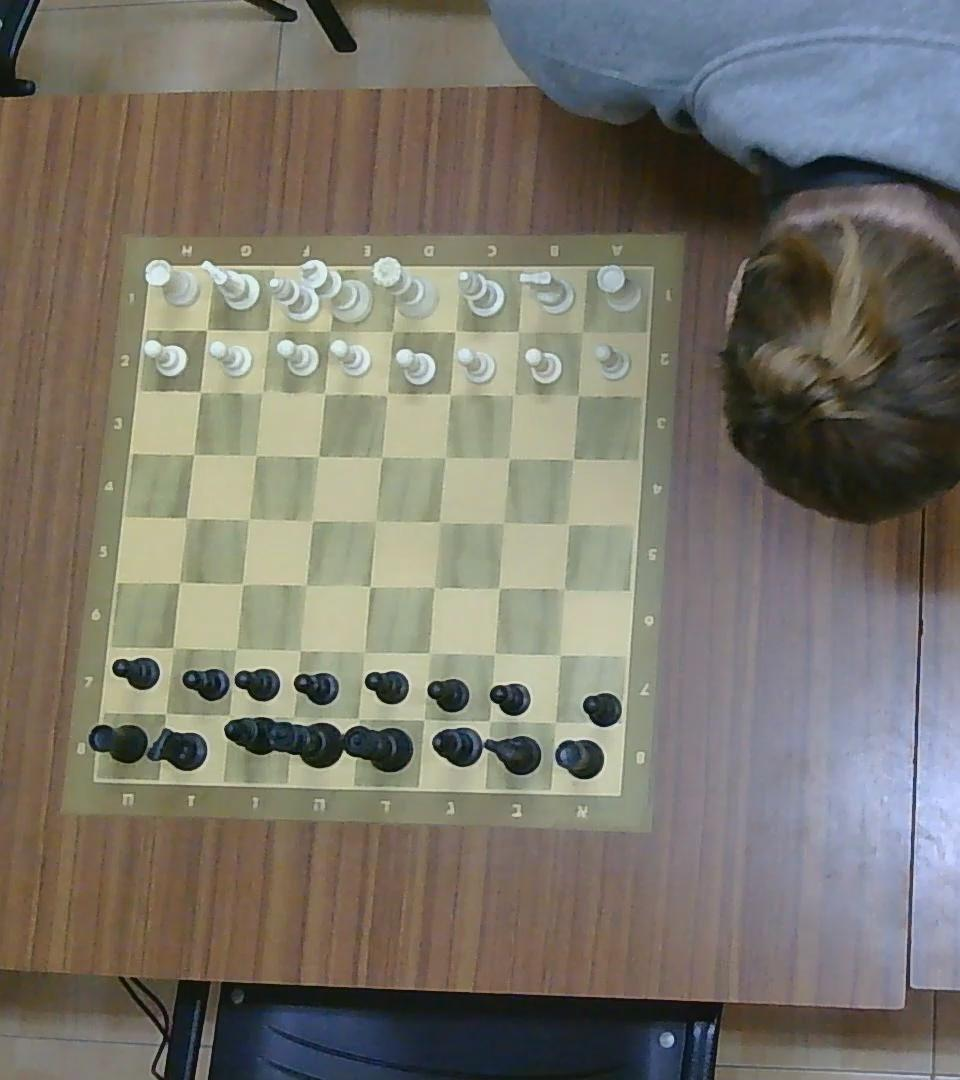xcorner: (345, 708, 370, 732), (543, 710, 568, 734), (154, 701, 178, 725), (217, 703, 239, 727), (318, 319, 341, 341), (162, 637, 185, 658), (365, 510, 386, 532), (478, 711, 500, 732), (288, 639, 311, 659), (245, 443, 266, 464), (283, 707, 303, 729), (182, 443, 202, 464), (169, 571, 189, 592), (413, 710, 434, 730), (483, 644, 503, 664), (549, 644, 569, 664), (225, 639, 245, 659), (177, 507, 196, 528), (296, 575, 315, 595), (376, 383, 395, 403), (423, 577, 442, 597), (440, 383, 459, 403), (429, 511, 448, 531), (420, 643, 440, 662), (488, 579, 508, 598), (555, 578, 573, 599), (372, 447, 391, 466), (361, 577, 380, 596), (196, 319, 215, 338), (446, 321, 465, 340), (259, 321, 278, 340), (559, 513, 578, 532), (504, 385, 523, 404), (232, 574, 251, 593), (494, 513, 513, 532), (510, 321, 529, 340), (382, 321, 401, 340), (354, 642, 374, 660), (315, 383, 333, 402), (240, 510, 258, 529), (303, 510, 321, 529), (573, 321, 591, 340), (570, 385, 588, 404), (435, 448, 453, 466), (500, 448, 518, 466), (190, 382, 208, 400), (253, 382, 271, 400), (309, 447, 326, 466), (564, 450, 583, 467)
